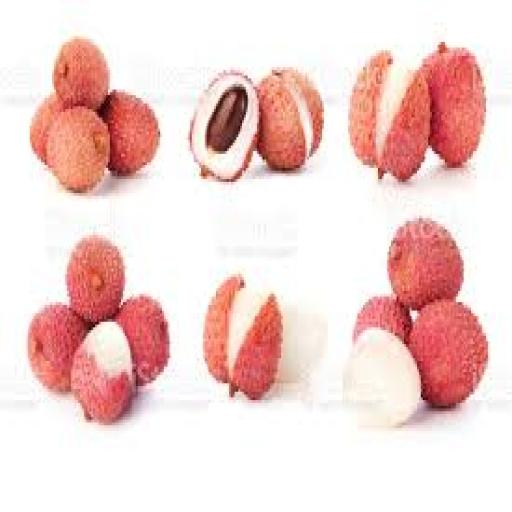lychee: (349, 54, 430, 181), (203, 277, 282, 400), (408, 300, 487, 408), (343, 328, 420, 428), (423, 45, 485, 167), (190, 73, 260, 181), (388, 219, 463, 310), (257, 68, 323, 170), (71, 322, 134, 422), (47, 107, 109, 193), (28, 305, 87, 391), (101, 90, 160, 176), (66, 236, 124, 321), (116, 297, 169, 386), (276, 300, 327, 386), (53, 40, 109, 109), (352, 297, 411, 344), (30, 96, 65, 165)
